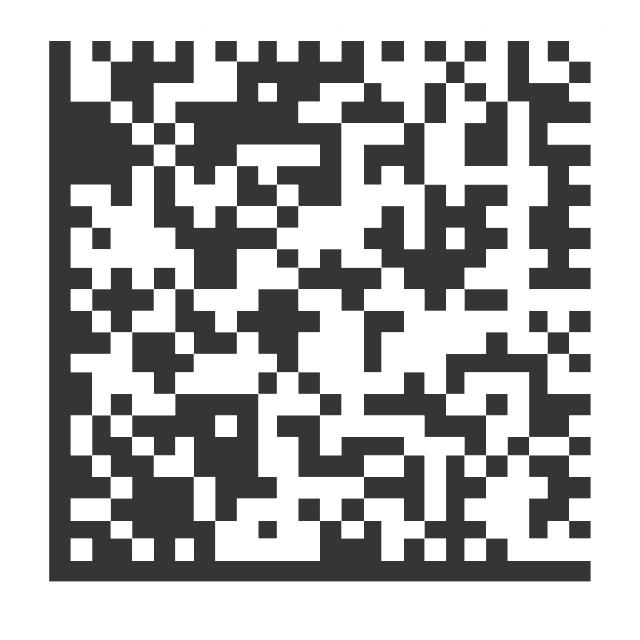DataMatrix: (40, 28, 603, 584)
